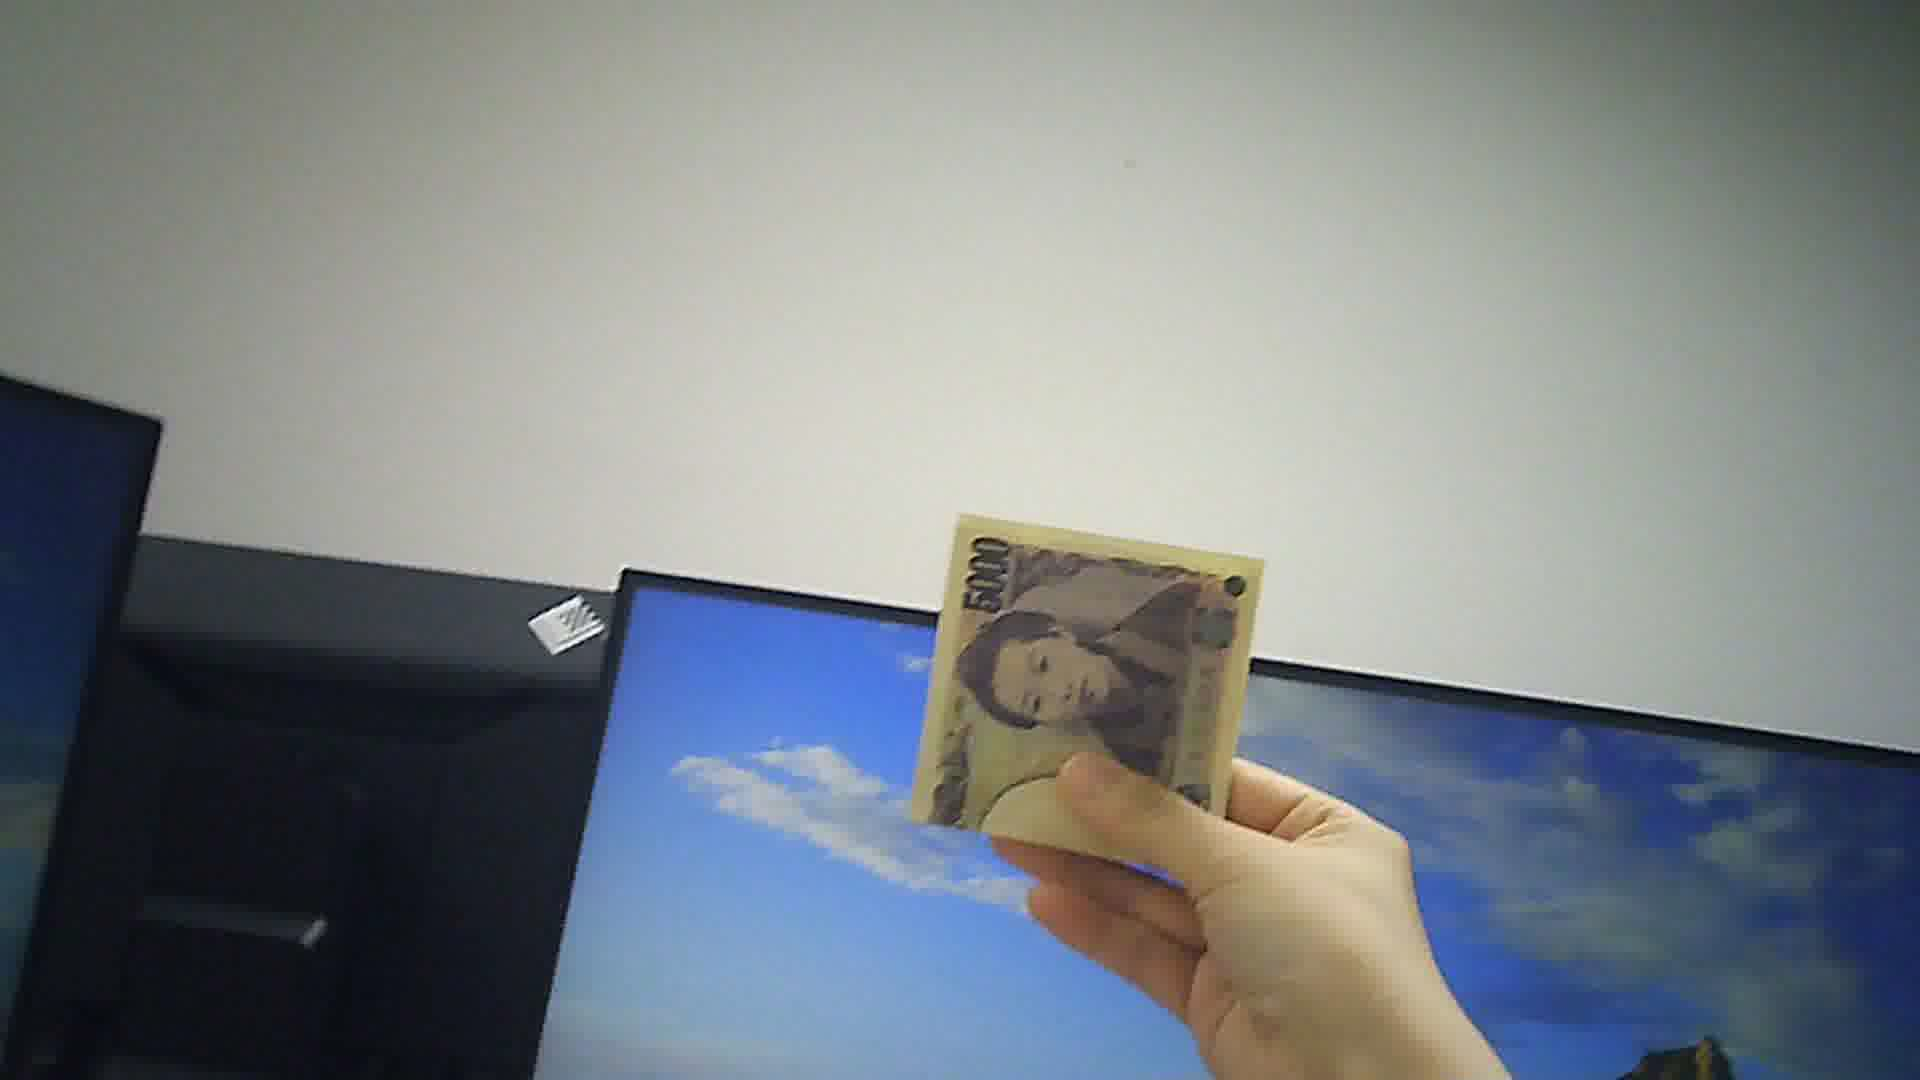5,000 Yen: (905, 500, 1270, 868)
